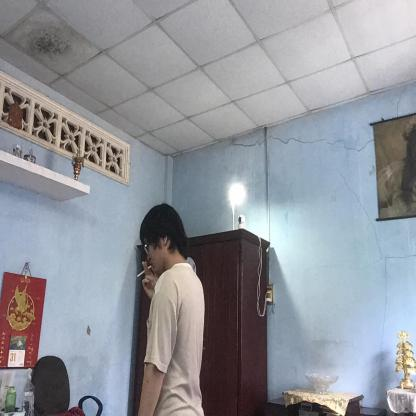cigarette: (136, 270, 146, 279)
person: (132, 204, 208, 415)
